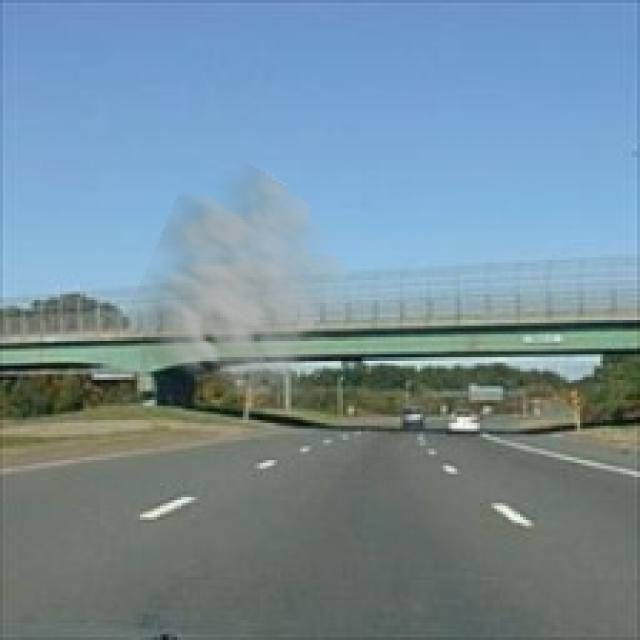smoke: (117, 157, 354, 417)
